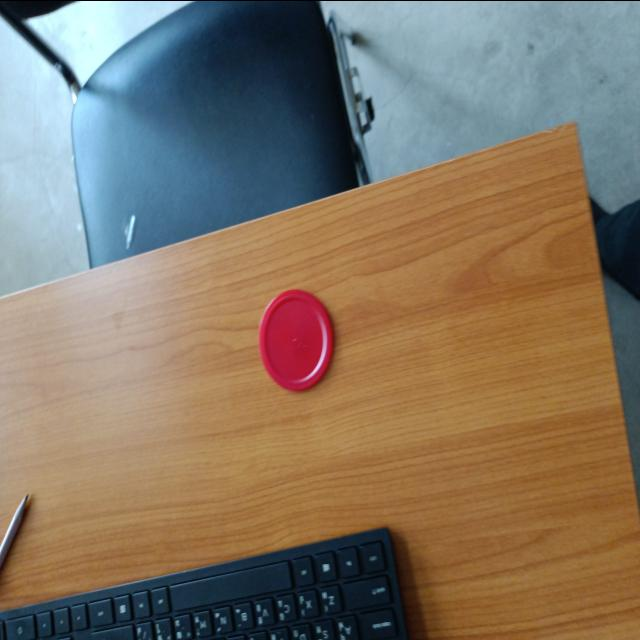chip: (257, 284, 335, 392)
